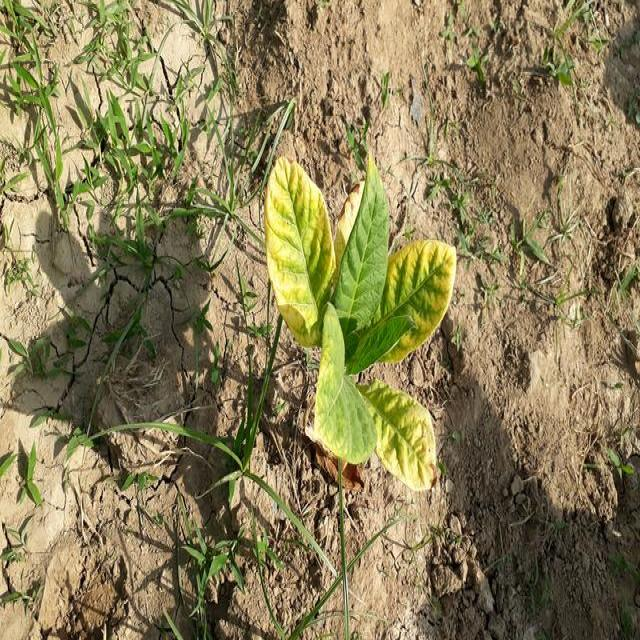crop: (260, 160, 460, 488)
